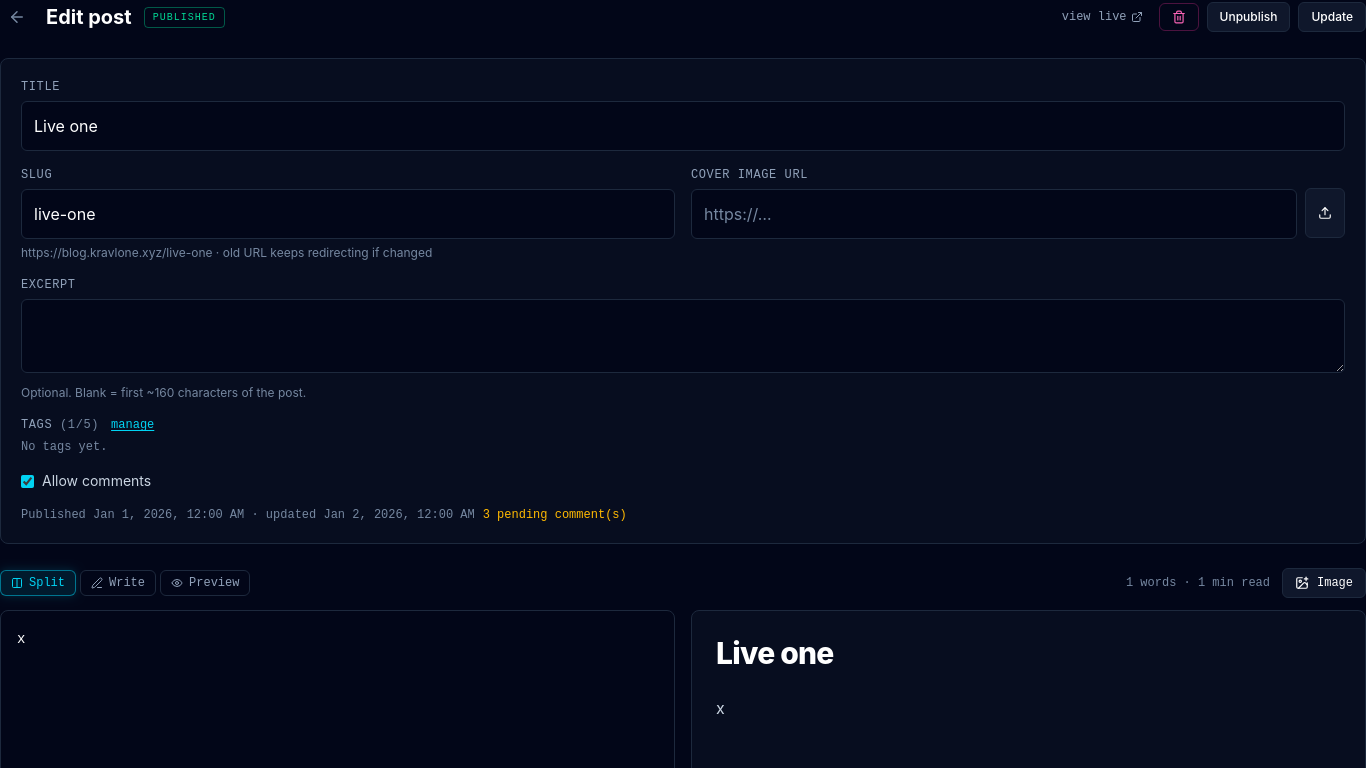
Test: BLG-31/32 editor views and actions › BLG-32 unpublish, then delete with confirmation
The width and height of the screenshot is (1366, 768).
Click the button "Unpublish": (1248, 17) [1206,2,1290,32]
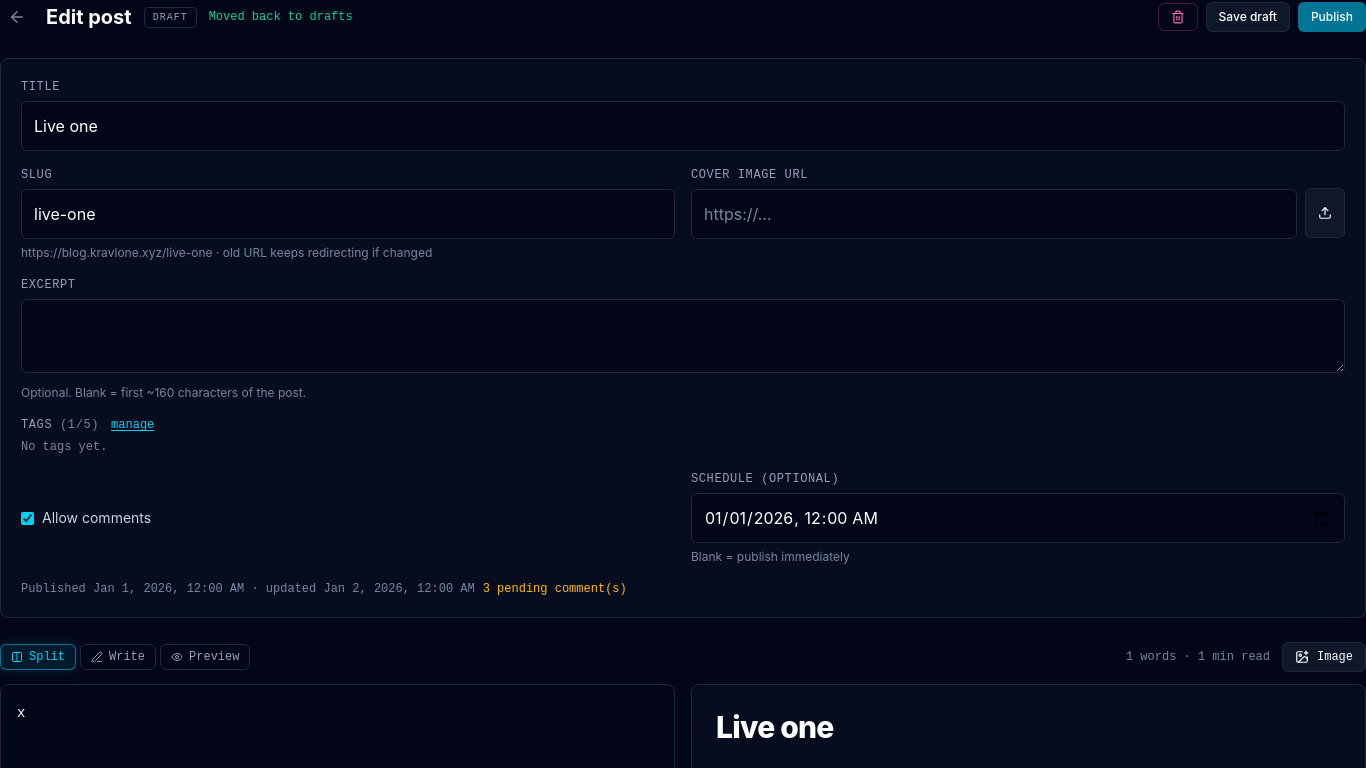
Check: the button "Publish" is shown, box [1298,2,1365,32]
Click the button named "Delete post": (1178, 17) [1158,3,1198,31]
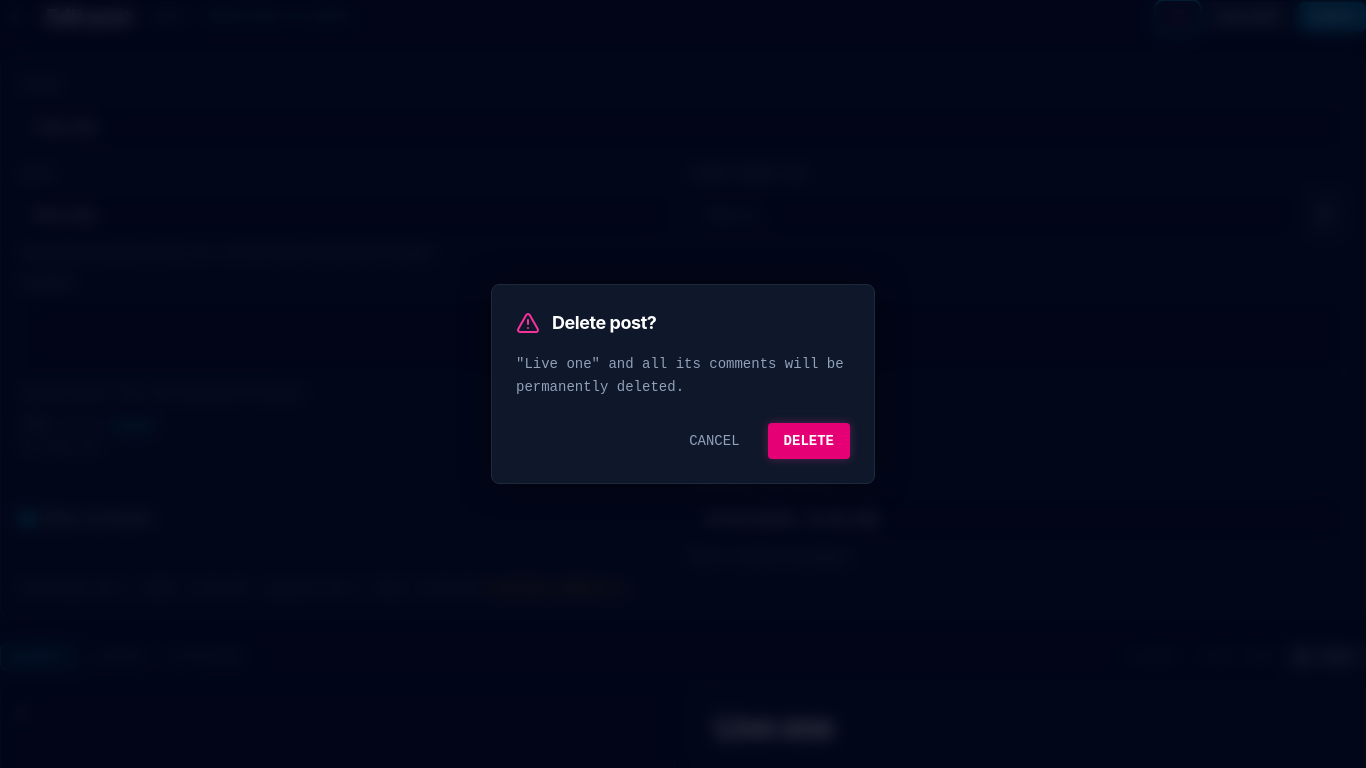
Check: the text "\"Live one\" and all its comments will be permanently deleted." is shown, box [516,353,850,399]
Click the button "DELETE": (809, 441) [768,423,850,459]
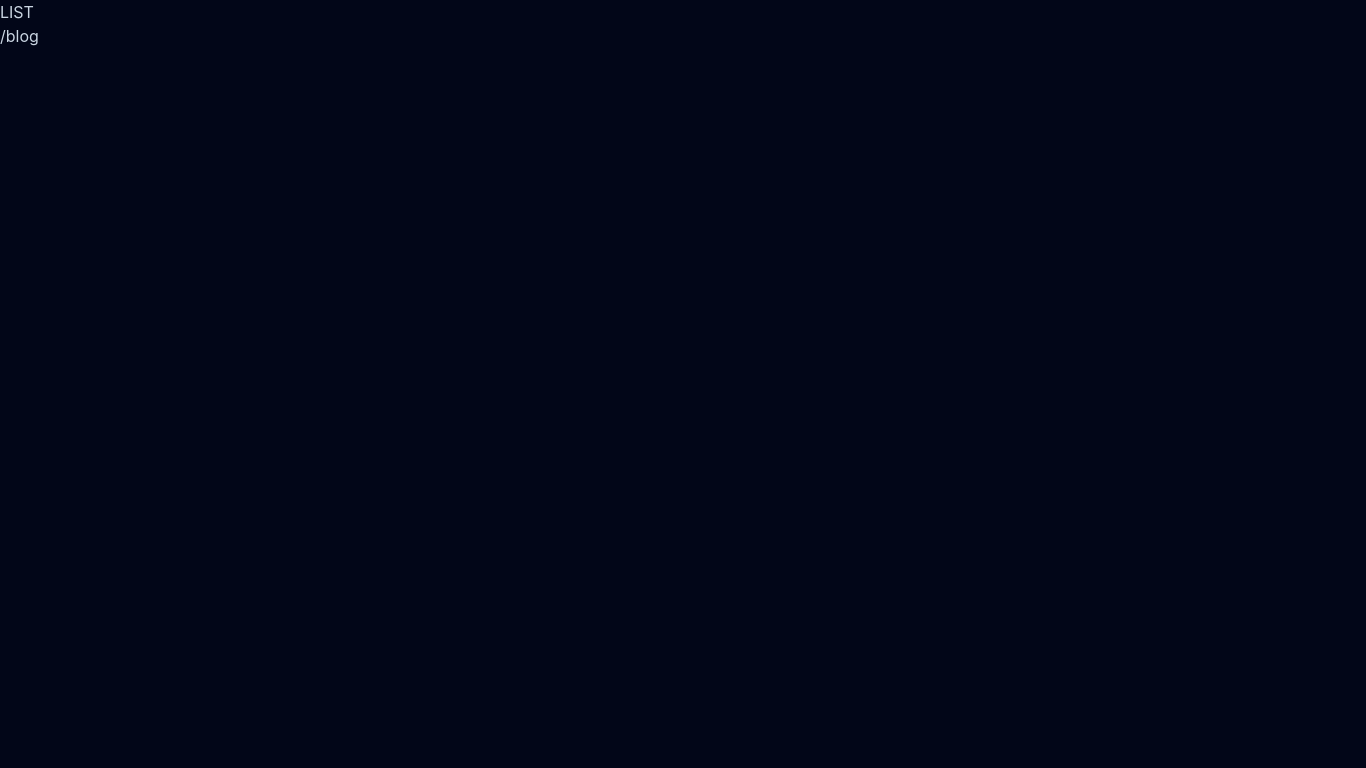
Check: the text with test id "where" reads "/blog", box [0,26,39,46]
